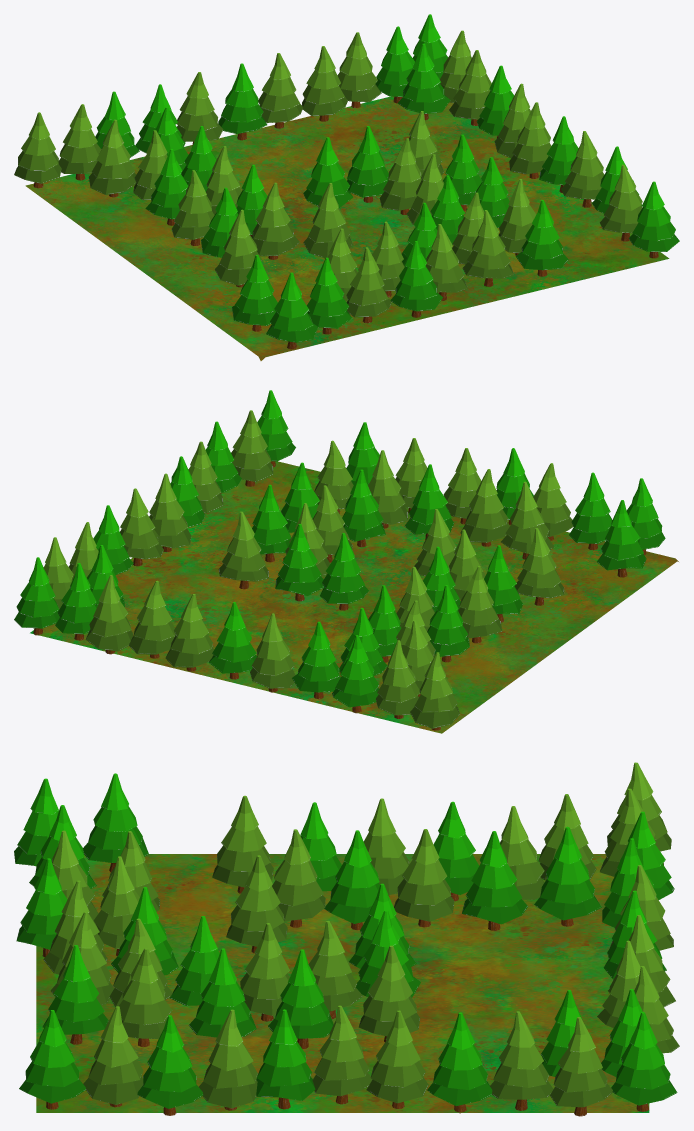
The model's file is lvl_0-cnk_1.obj.
3 views of the same model, one above another, from view 1: azimuth 30°, elevation 25°; view 2: azimuth 150°, elevation 25°; view 3: azimuth 270°, elevation 25° (orthographic). The views are drawn at different scales.
Visible parts, largest first — view 1: Cube.112, Arbol_1.055, Arbol_1.161, Arbol_1.054, Arbol_1.202, Arbol_1.058, Arbol_1.085, Arbol_1.082, Arbol_1.045, Arbol_1.059, Arbol_1.086, Arbol_1.051 (+44 smaller); view 2: Cube.112, Arbol_1.045, Arbol_1.064, Arbol_1.052, Arbol_1.049, Arbol_1.199, Arbol_1.053, Arbol_1.191, Arbol_1.050, Arbol_1.080, Arbol_1.196, Arbol_1.048 (+44 smaller); view 3: Cube.112, Arbol_1.072, Arbol_1.079, Arbol_1.074, Arbol_1.078, Arbol_1.066, Arbol_1.070, Arbol_1.061, Arbol_1.085, Arbol_1.092, Arbol_1.184, Arbol_1.187 (+44 smaller).
Boxes of the visible parts, x1,y1,x2,y2 form: Cube.112: [25, 96, 669, 360]; Arbol_1.055: [88, 119, 136, 197]; Arbol_1.161: [515, 200, 568, 276]; Arbol_1.054: [266, 272, 318, 349]; Arbol_1.202: [251, 182, 299, 259]; Arbol_1.058: [390, 241, 442, 317]; Arbol_1.085: [628, 181, 679, 258]; Arbol_1.082: [462, 210, 513, 286]; Arbol_1.045: [14, 112, 61, 188]; Arbol_1.059: [397, 43, 450, 120]; Arbol_1.086: [232, 255, 277, 331]; Arbol_1.051: [218, 63, 267, 140]; Cube.112: [30, 461, 678, 733]; Arbol_1.045: [410, 652, 459, 730]; Arbol_1.064: [85, 575, 133, 654]; Arbol_1.052: [165, 594, 214, 671]; Arbol_1.049: [250, 613, 295, 692]; Arbol_1.199: [460, 469, 509, 546]; Arbol_1.053: [129, 580, 175, 658]; Arbol_1.191: [218, 511, 268, 589]; Arbol_1.050: [292, 621, 340, 699]; Arbol_1.080: [275, 524, 323, 601]; Arbol_1.196: [514, 528, 564, 605]; Arbol_1.048: [332, 635, 378, 713]; Cube.112: [36, 854, 649, 1112]; Arbol_1.072: [199, 1009, 257, 1110]; Arbol_1.079: [83, 1006, 143, 1107]; Arbol_1.074: [534, 826, 601, 926]; Arbol_1.078: [137, 1015, 203, 1115]; Arbol_1.066: [611, 1012, 677, 1111]; Arbol_1.070: [427, 1012, 492, 1113]; Arbol_1.061: [462, 831, 527, 930]; Arbol_1.085: [19, 1010, 85, 1109]; Arbol_1.092: [394, 829, 454, 927]; Arbol_1.184: [256, 1009, 315, 1109]; Arbol_1.187: [366, 1010, 428, 1108].
Size of the model in its own units: 107 by 17.93 by 108.
Materials: 3 (3 with a texture image).
